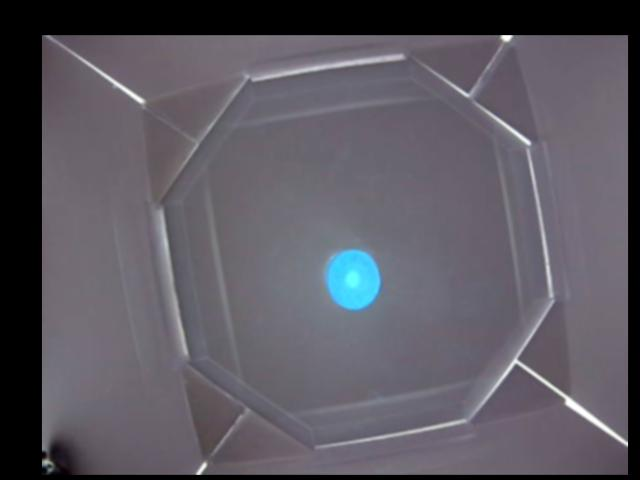Carrot: (326, 251, 380, 309)
